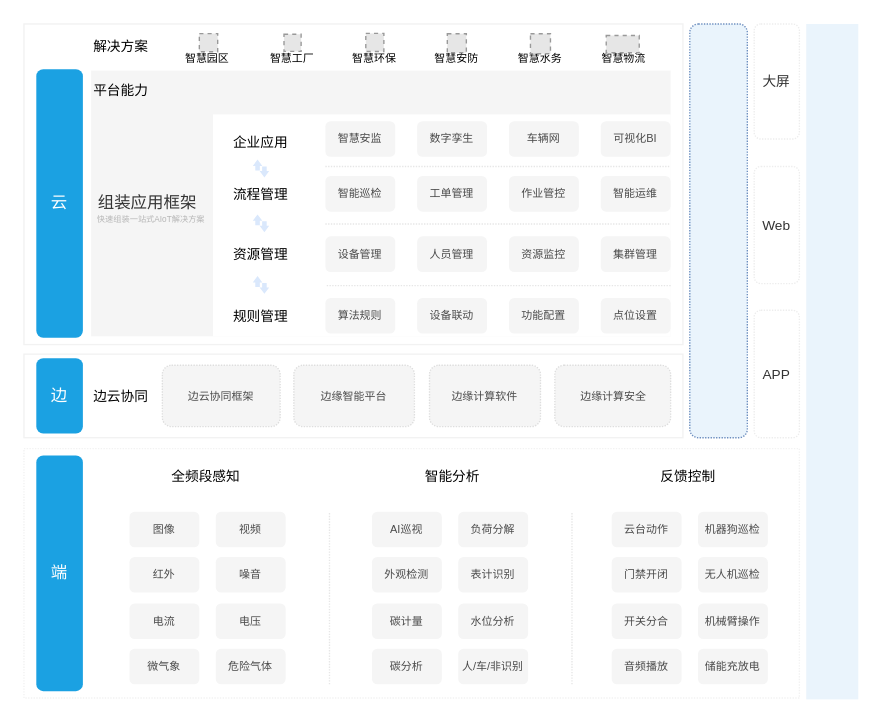
Some shapes in this 882 by 723 pixel diagram are drawn without their labels. Grey dashed boxes stand in for pictures. Here are the shapes that lost their labels. From the top down, the centre of each, then its label:
[717,230]: 云溪 平台
[832,361]: 安全
